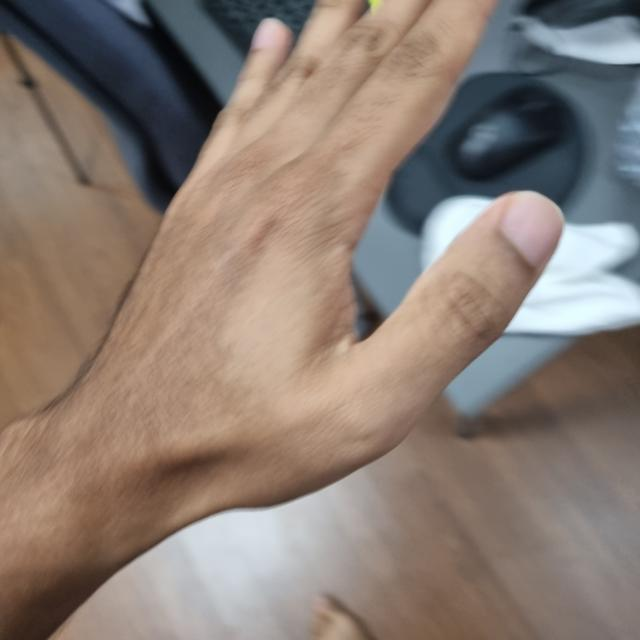Paper: (60, 1, 639, 638)
